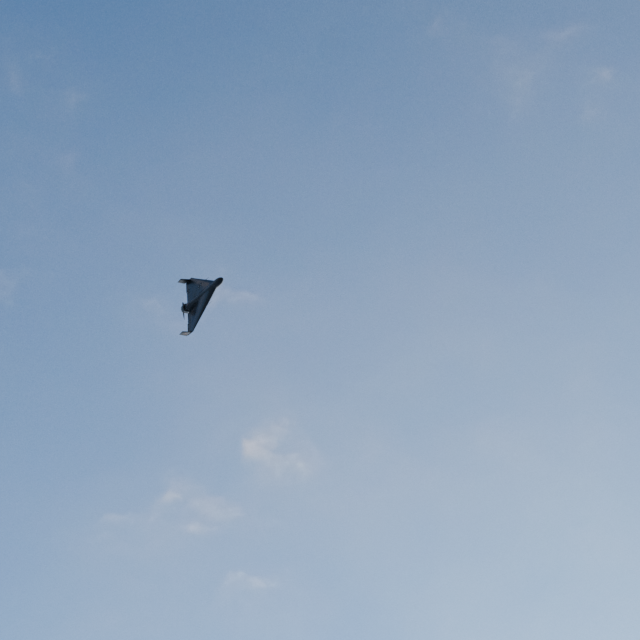shahed: (177, 277, 223, 336)
